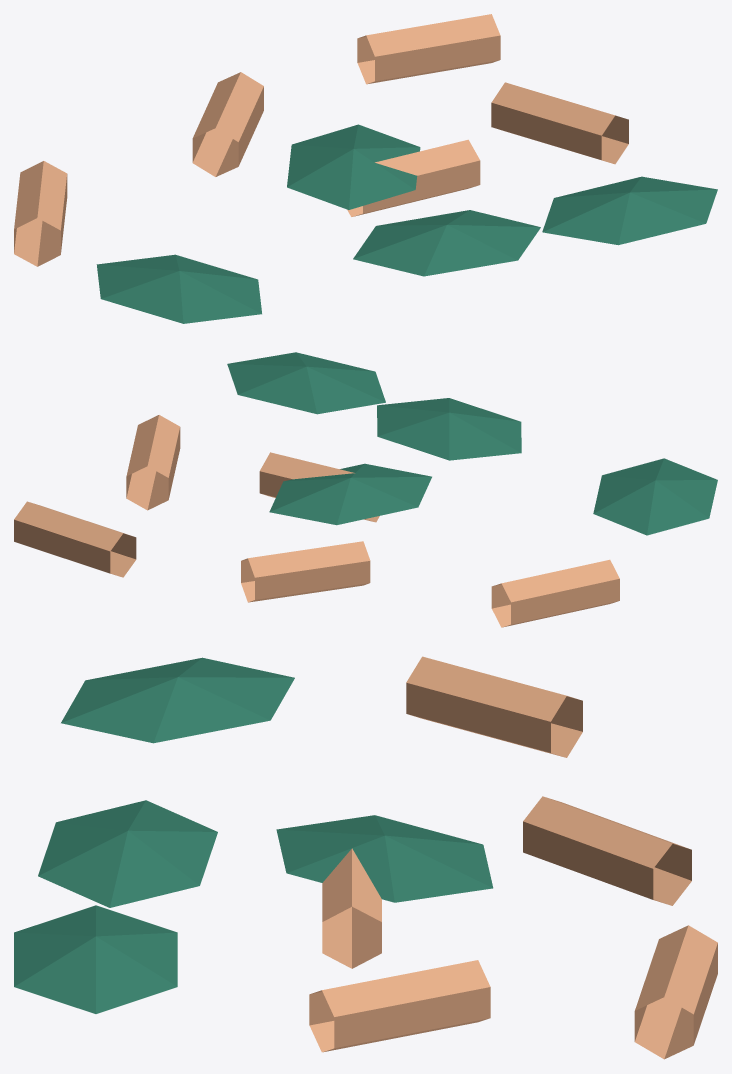
Rendered from kangkung-chopped.glb.
3 views of the same model, one above another, from view 1: azimuth 30°, elevation 25°; view 2: azimuth 150°, elevation 25°; view 3: azimuth 270°, elevation 25° (orthographic). The views are drawn at different scales.
Visible parts, largest first — view 1: kangkung-chopped; view 2: kangkung-chopped; view 3: kangkung-chopped.
Boxes of the visible parts, x1,y1,x2,y2 form: kangkung-chopped: (14,14,717,323); kangkung-chopped: (14,352,717,627); kangkung-chopped: (14,656,717,1059).
Bounding box in the file's own units: 0.1979 × 0.018 × 0.1638.
Materials: 1 (1 with a texture image).
